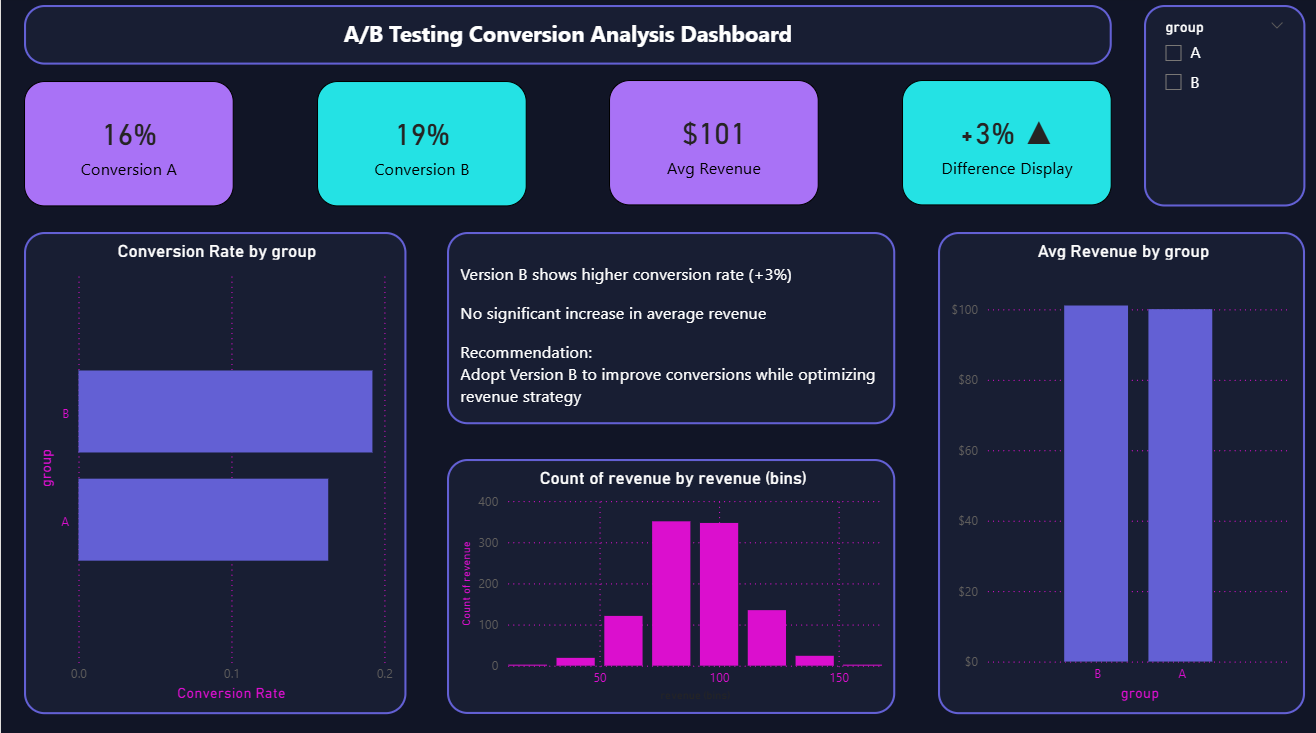

This screenshot's page, from the dashboard's own definition file:
{"tool":"powerbi","page":{"name":"Page 1","canvas":[1280,720],"ordinal":0},"visuals":[{"type":"card","fields":{"Values":["Sheet1.Conversion A"]},"box":[22.4,81.7,204.3,121.6],"z":0},{"type":"card","fields":{"Values":["Sheet1.Conversion B"]},"box":[307,81.7,204.3,121.6],"z":1000},{"type":"card","fields":{"Values":["Sheet1.Avg Revenue"]},"box":[591.7,80.7,204.3,121.6],"z":2000},{"type":"card","fields":{"Values":["Sheet1.Difference Display"]},"box":[876.4,80.7,204.3,121.6],"z":3000},{"type":"clusteredBarChart","fields":{"Category":["Sheet1.group"],"Y":["Sheet1.Conversion Rate"]},"box":[22.4,228.6,371.6,468.8],"z":4000},{"type":"clusteredColumnChart","fields":{"Category":["Sheet1.group"],"Y":["Sheet1.Avg Revenue"]},"box":[911.4,228.6,357,468.8],"z":5000},{"type":"columnChart","fields":{"Category":["Sheet1.revenue (bins)"],"Y":["CountNonNull(Sheet1.revenue)"]},"box":[433.8,449.4,435.7,248],"z":6000},{"type":"slicer","fields":{"Values":["Sheet1.group"]},"box":[1111.7,7.8,156.6,195.5],"z":7000},{"type":"textbox","box":[22.4,7.8,1058.2,58.4],"z":8000},{"type":"textbox","box":[433.8,228.6,435.7,186.7],"z":9000}]}

Visuals, with their boxes in screenshot pixels (x1, y1, x2, y2), scaled from the page's 1280x720 canvas onto the 1316x733 screenshot:
card - Sheet1.Conversion A: <region>23, 83, 233, 207</region>
card - Sheet1.Conversion B: <region>316, 83, 526, 207</region>
card - Sheet1.Avg Revenue: <region>608, 82, 818, 206</region>
card - Sheet1.Difference Display: <region>901, 82, 1111, 206</region>
clusteredBarChart - Sheet1.group x Sheet1.Conversion Rate: <region>23, 233, 405, 710</region>
clusteredColumnChart - Sheet1.group x Sheet1.Avg Revenue: <region>937, 233, 1304, 710</region>
columnChart - Sheet1.revenue (bins) x CountNonNull(Sheet1.revenue): <region>446, 458, 894, 710</region>
slicer - Sheet1.group: <region>1143, 8, 1304, 207</region>
textbox: <region>23, 8, 1111, 67</region>
textbox: <region>446, 233, 894, 423</region>
